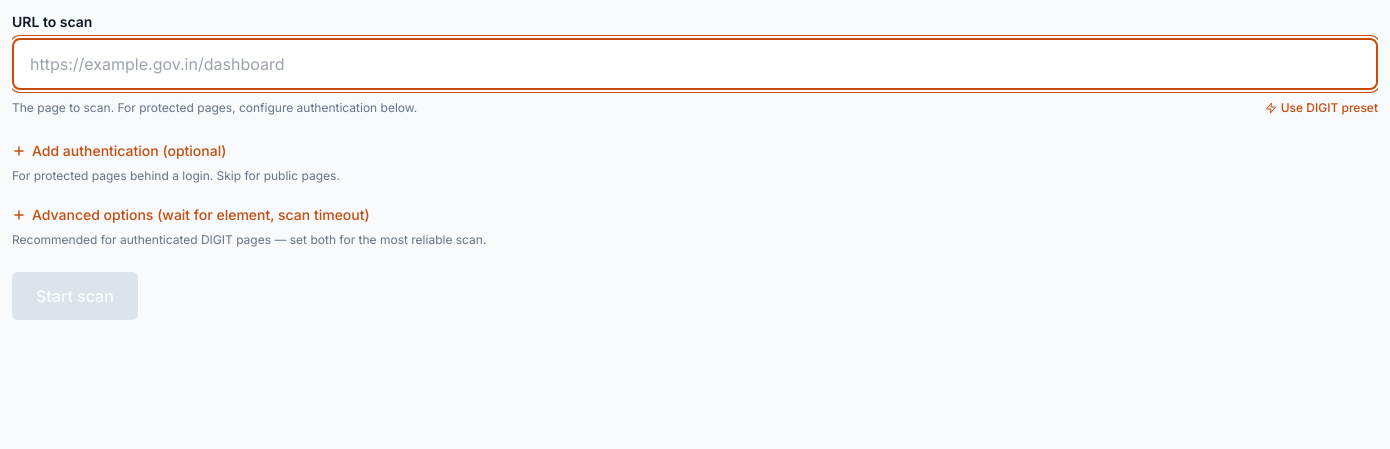
Test: <ScanForm /> › surfaces an INVALID_REQUEST_BODY error from the API
Type "https://example.gov.in" into the field labelled "URL to scan" at [695, 64], box [12,38,1378,90]
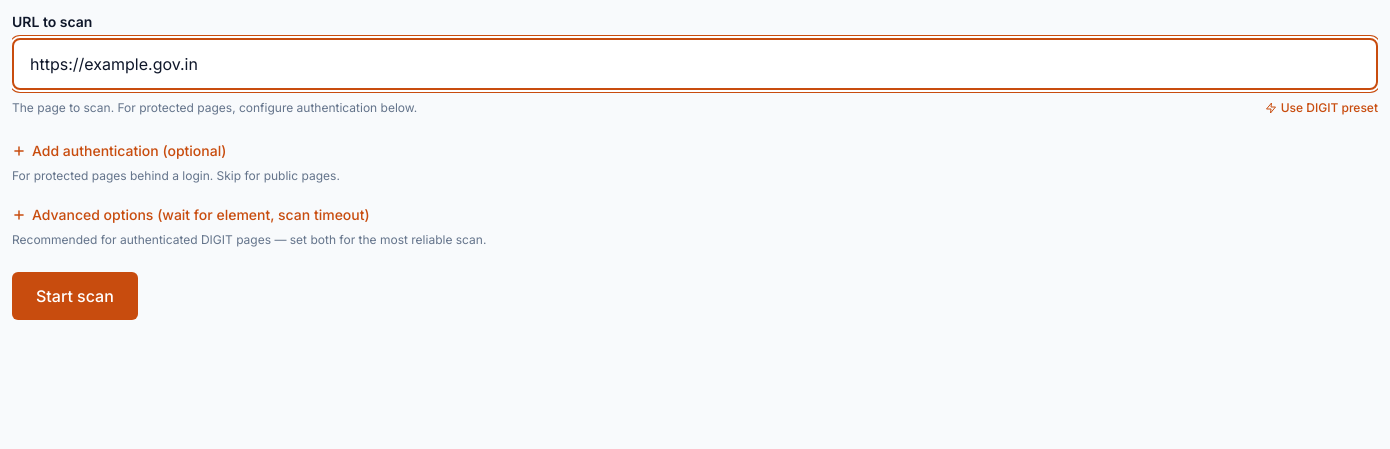
Click the button "Start scan" at [75, 296], box [12,272,138,320]
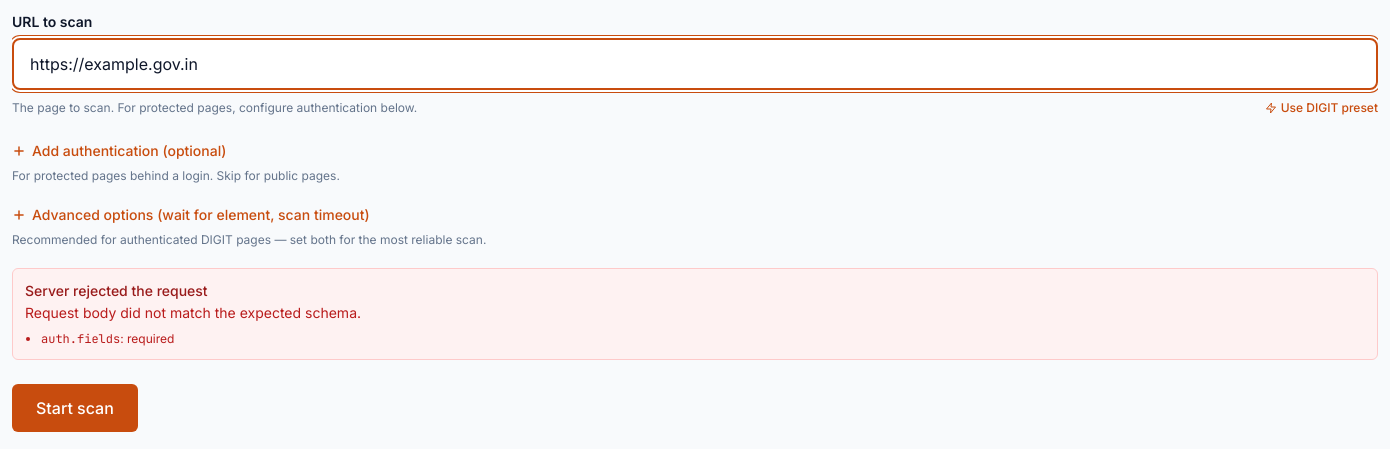
Check: the message is shown, box [12,268,1378,360]
Check: the text "Server rejected the request" is shown, box [25,282,208,299]
Check: the text "auth.fields" is shown, box [41,331,120,347]
